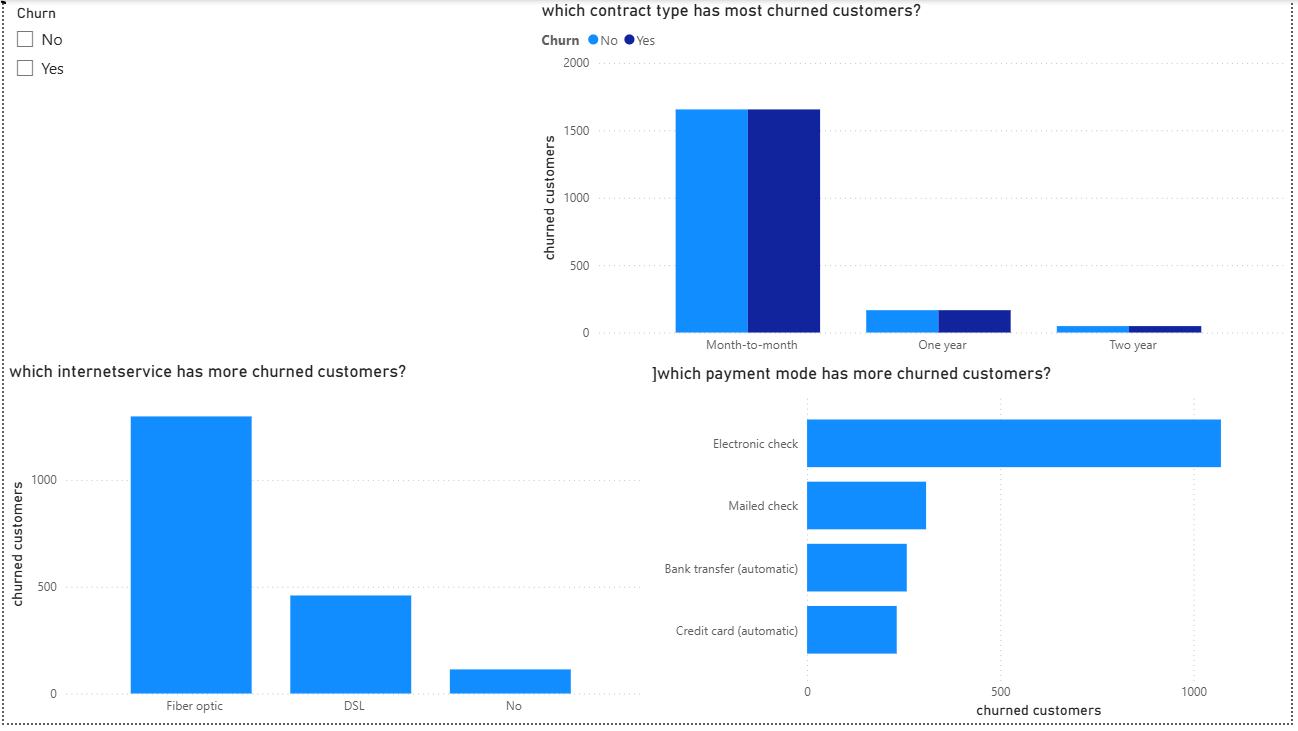

Layout of this report page (visuals, bound fields, positions):
{"tool":"powerbi","page":{"name":"Page 2","canvas":[1280,720],"ordinal":1},"visuals":[{"type":"clusteredColumnChart","title":"which contract type has most churned customers?","fields":{"Category":["WA_Fn-UseC_-Telco-Customer-Churn.Contract"],"Y":["WA_Fn-UseC_-Telco-Customer-Churn.churned customers"],"Series":["WA_Fn-UseC_-Telco-Customer-Churn.Churn"]},"box":[529.7,0,750.6,360.9],"z":0},{"type":"clusteredBarChart","title":"]which payment mode has more churned customers?","fields":{"Category":["WA_Fn-UseC_-Telco-Customer-Churn.PaymentMethod"],"Y":["WA_Fn-UseC_-Telco-Customer-Churn.churned customers"]},"box":[639.5,360.9,639.5,359.5],"z":1000},{"type":"clusteredColumnChart","title":"which internetservice has more churned customers?","fields":{"Y":["WA_Fn-UseC_-Telco-Customer-Churn.churned customers"],"Category":["WA_Fn-UseC_-Telco-Customer-Churn.InternetService"]},"box":[0,359.5,639.5,360.9],"z":2000},{"type":"slicer","fields":{"Values":["WA_Fn-UseC_-Telco-Customer-Churn.Churn"]},"box":[0,0,530,360],"z":3000}]}

Visuals, with their boxes in screenshot pixels (x1, y1, x2, y2), scaled from the page's 1280x720 canvas onto the 1298x731 screenshot:
"which contract type has most churned customers?" clusteredColumnChart: bbox(537, 0, 1297, 366)
"]which payment mode has more churned customers?" clusteredBarChart: bbox(648, 366, 1297, 730)
"which internetservice has more churned customers?" clusteredColumnChart: bbox(0, 365, 648, 730)
slicer - WA_Fn-UseC_-Telco-Customer-Churn.Churn: bbox(0, 0, 537, 366)
